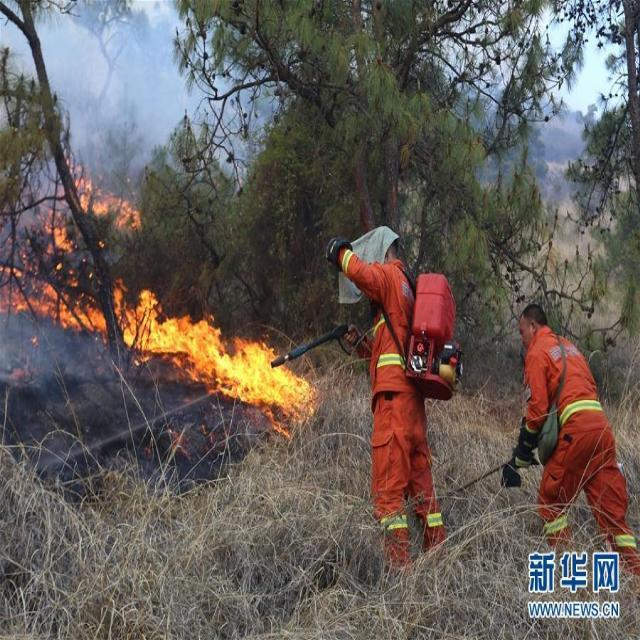Fire: (1, 156, 318, 442)
Smoke: (1, 1, 300, 493)
